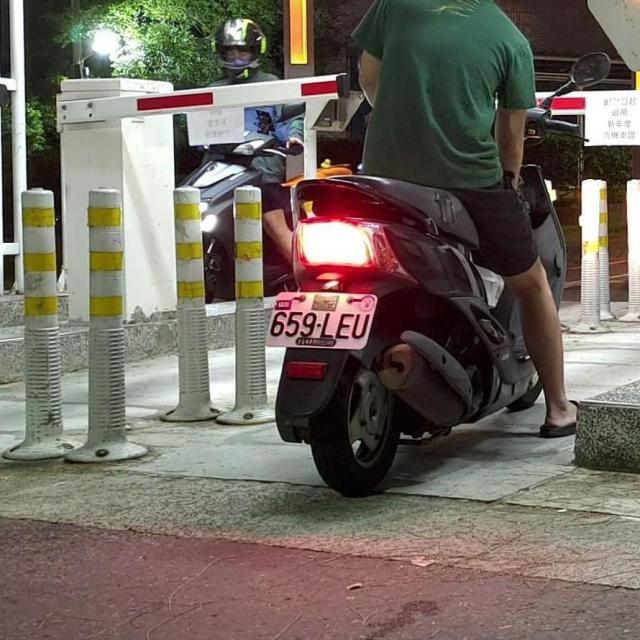W: (262, 287, 377, 351)
